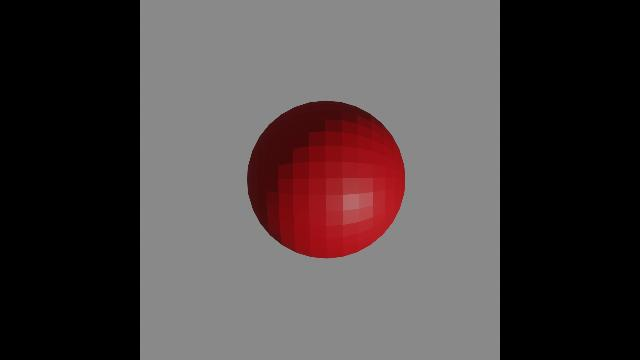Sphere: (245, 96, 411, 264)
